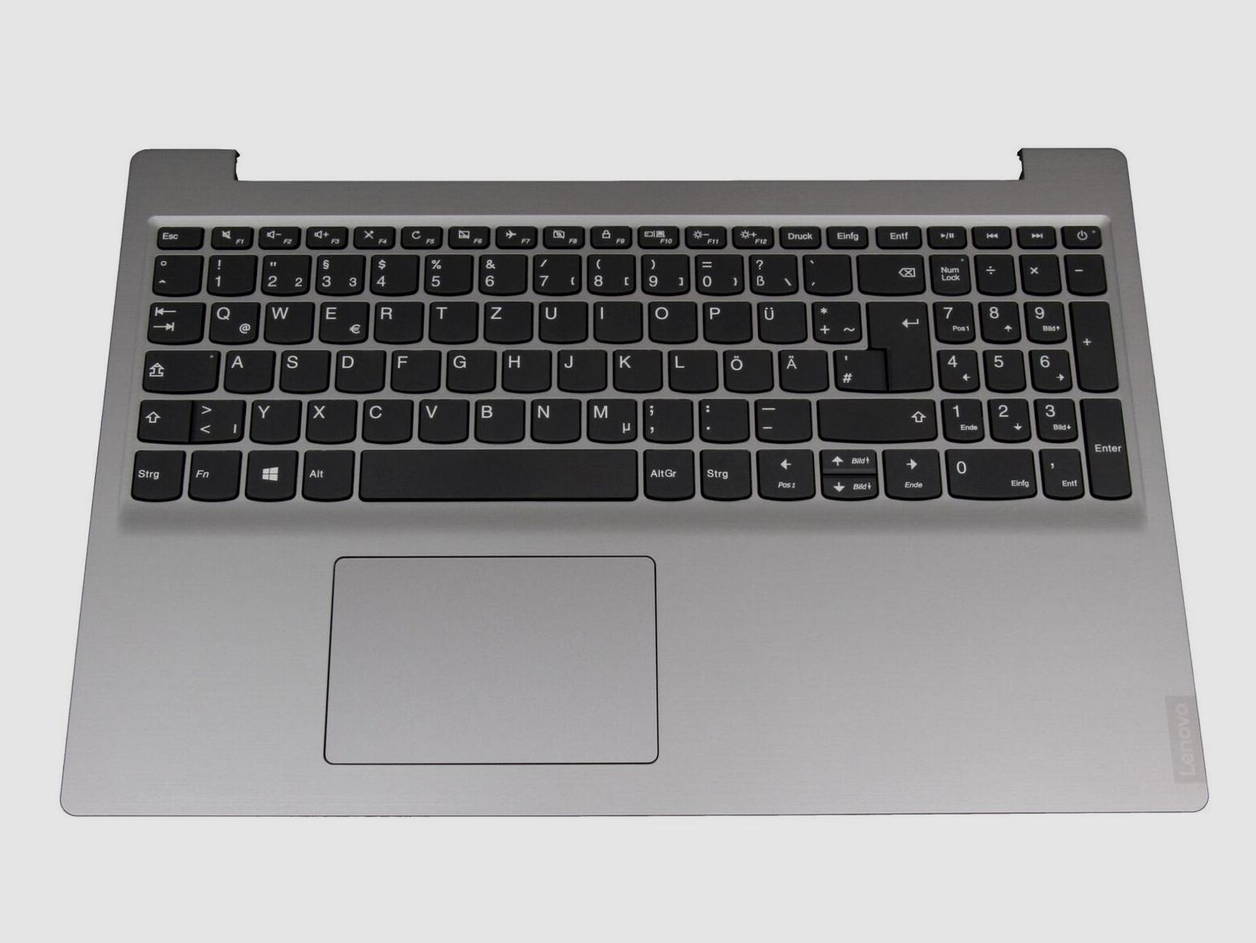0: (691, 250, 742, 294)
1: (205, 251, 255, 294)
2: (259, 251, 310, 294)
3: (313, 251, 364, 294)
4: (368, 251, 417, 293)
5: (422, 251, 472, 293)
6: (476, 251, 526, 293)
7: (531, 250, 579, 293)
8: (584, 250, 634, 293)
9: (638, 250, 689, 293)
a: (222, 346, 273, 392)
accent: (800, 251, 851, 294)
ae: (776, 346, 827, 391)
alt-left: (299, 446, 352, 499)
altgr-right: (640, 445, 693, 498)
b: (472, 396, 524, 441)
c: (359, 396, 412, 441)
caret: (150, 251, 199, 294)
comma: (640, 396, 693, 441)
d: (333, 346, 384, 392)
del: (855, 251, 924, 294)
e: (316, 298, 368, 341)
enter: (866, 298, 930, 390)
f: (388, 346, 439, 391)
g: (444, 346, 495, 391)
h: (499, 346, 550, 390)
hash: (831, 345, 883, 389)
i: (591, 298, 641, 341)
j: (555, 345, 606, 391)
k: (610, 345, 662, 390)
keyboard: (116, 209, 1145, 516)
l: (666, 345, 717, 390)
less: (190, 395, 243, 440)
m: (583, 395, 636, 441)
minus: (751, 396, 811, 440)
n: (528, 396, 579, 441)
o: (646, 298, 696, 341)
oe: (721, 345, 772, 391)
p: (701, 298, 751, 341)
plus: (809, 298, 860, 341)
point: (696, 396, 748, 440)
q: (207, 298, 259, 342)
r: (372, 298, 422, 341)
s: (277, 346, 329, 391)
shift-left: (134, 396, 189, 440)
shift-lock: (140, 346, 218, 391)
shift-right: (815, 394, 935, 440)
space: (356, 445, 637, 499)
ss: (746, 251, 796, 294)
strg-left: (128, 446, 183, 499)
strg-right: (697, 445, 750, 499)
t: (427, 298, 476, 341)
tab: (144, 298, 203, 342)
u: (536, 298, 587, 341)
ue: (756, 298, 806, 342)
v: (416, 396, 468, 441)
w: (262, 298, 312, 341)
x: (304, 397, 356, 442)
y: (247, 397, 300, 442)
z: (481, 298, 532, 341)
